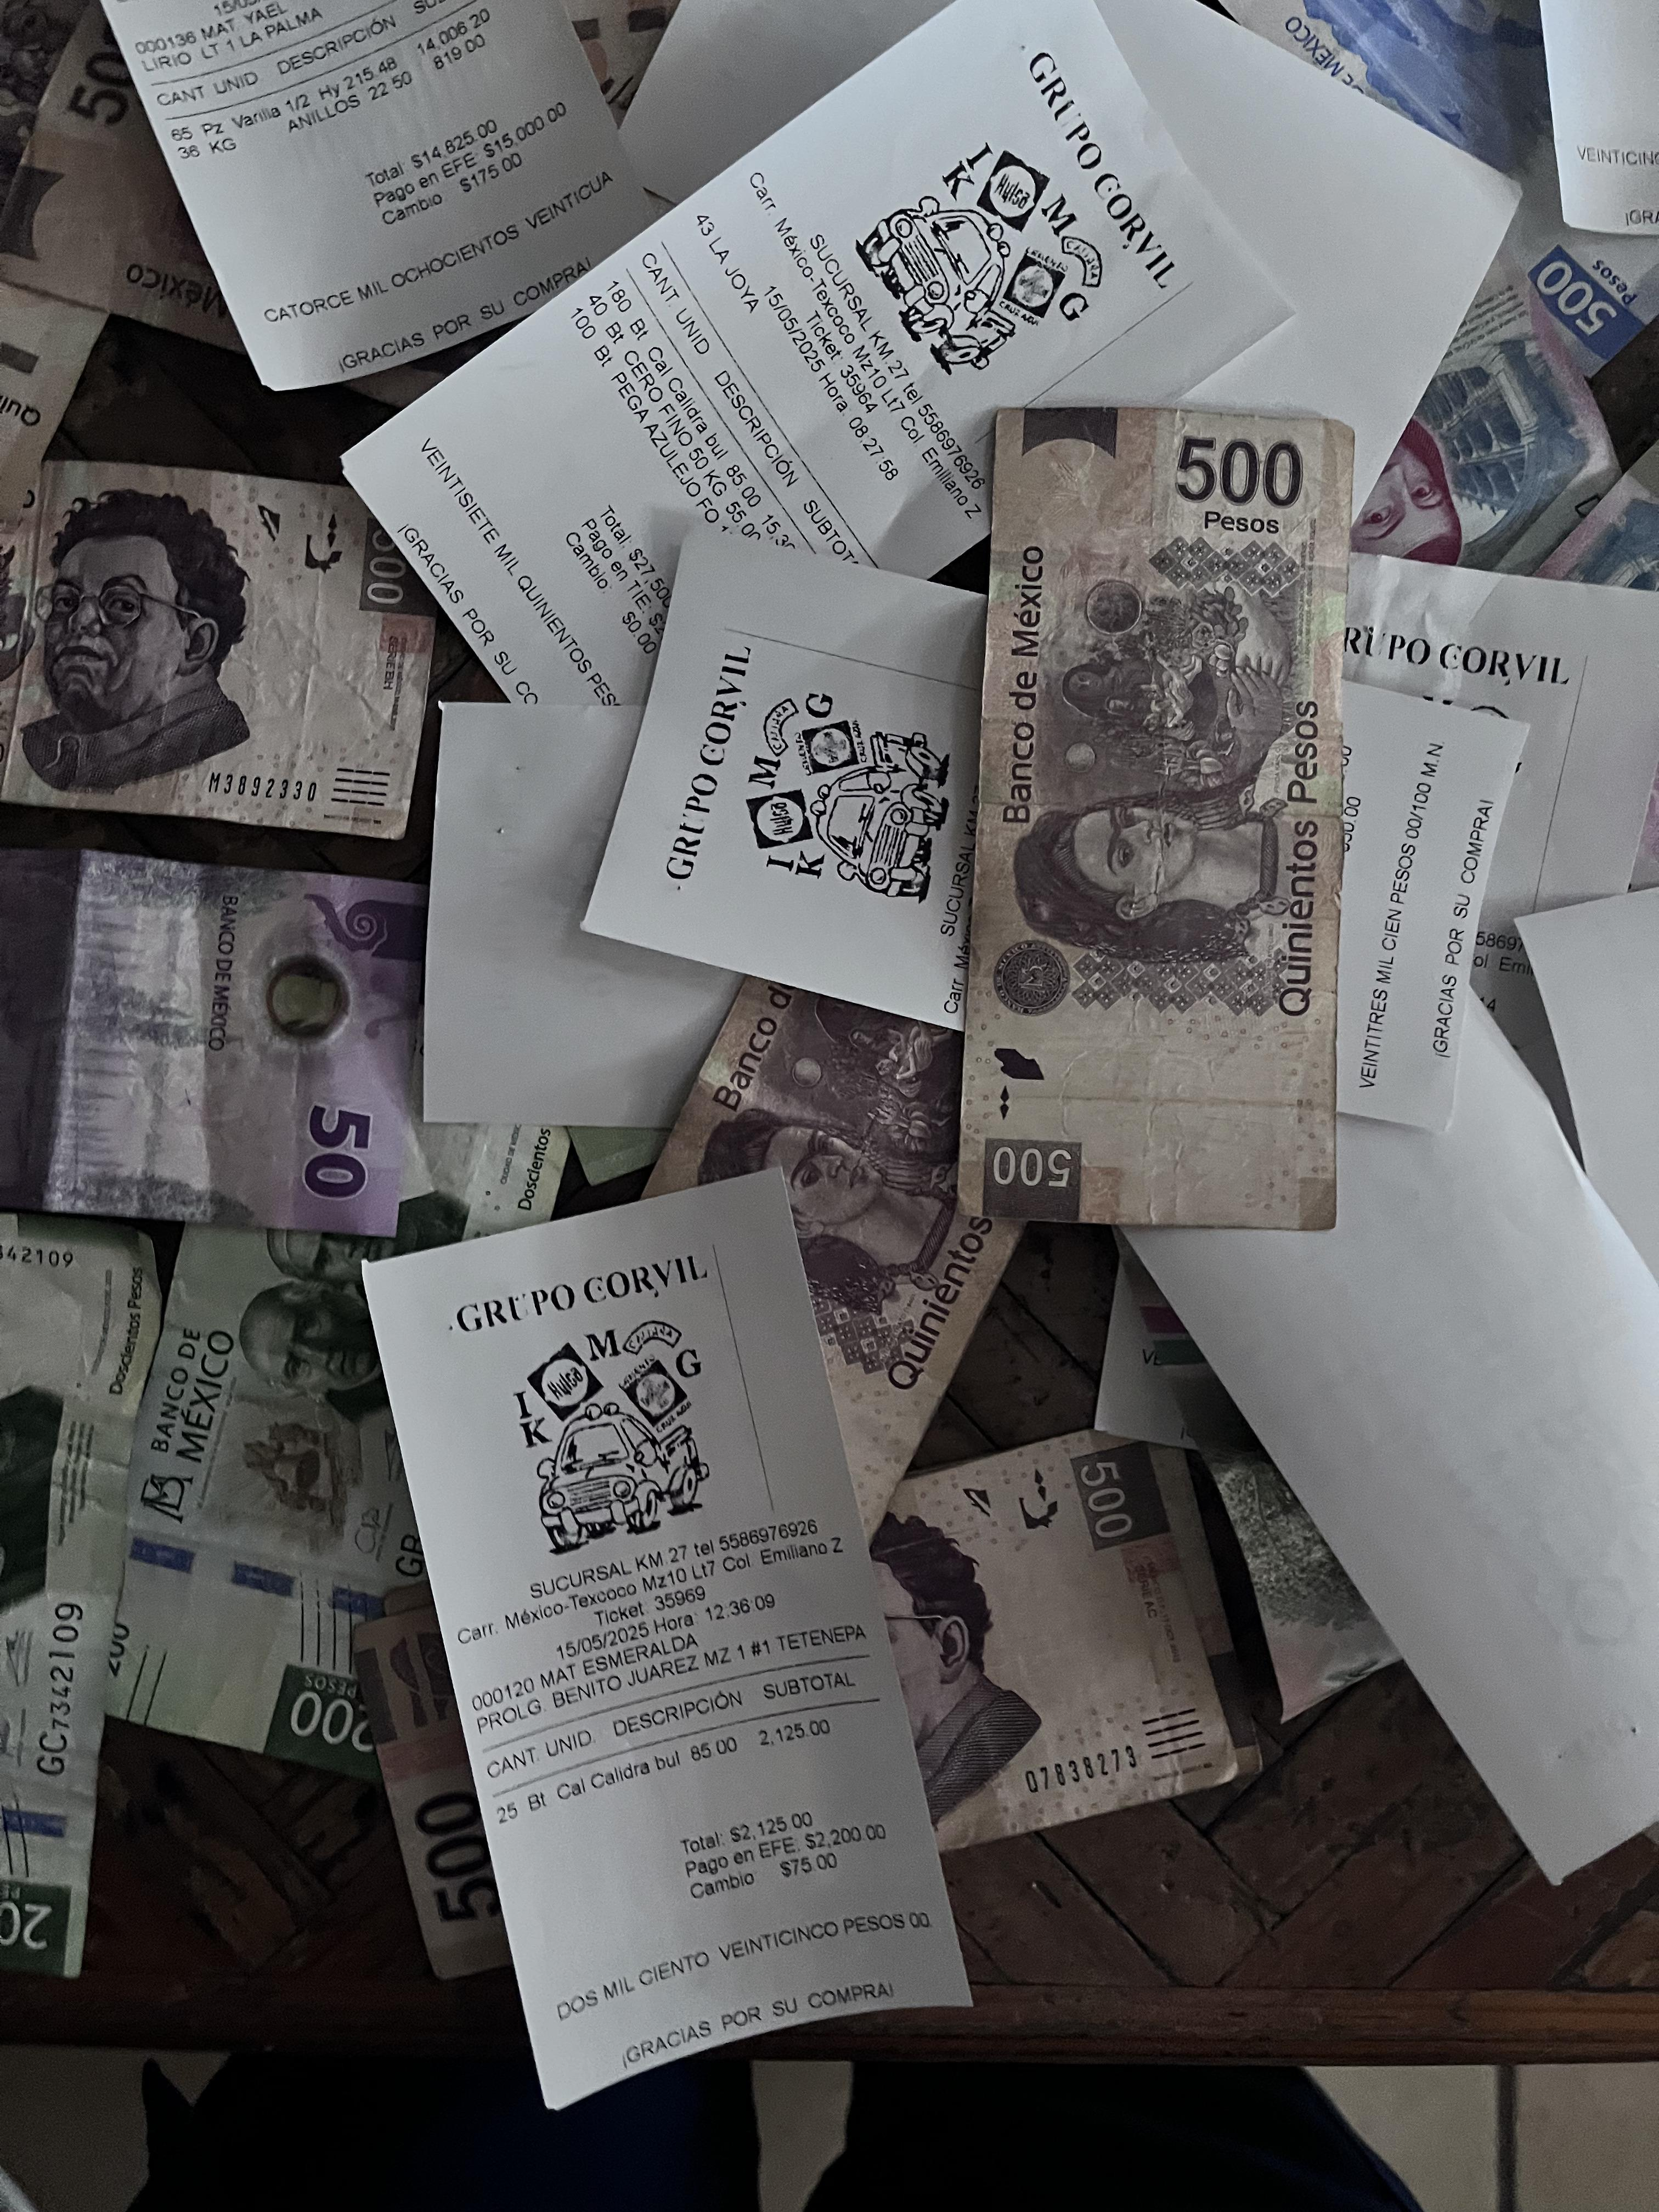100: (1281, 176, 1635, 634)
200: (115, 1024, 568, 1804), (0, 1190, 110, 1998)
50: (0, 838, 436, 1249)
500: (281, 1397, 1281, 1979), (941, 387, 1344, 1240), (601, 911, 1046, 1548), (0, 423, 453, 874), (0, 19, 420, 352)
500 nuevo: (1190, 0, 1659, 404)
